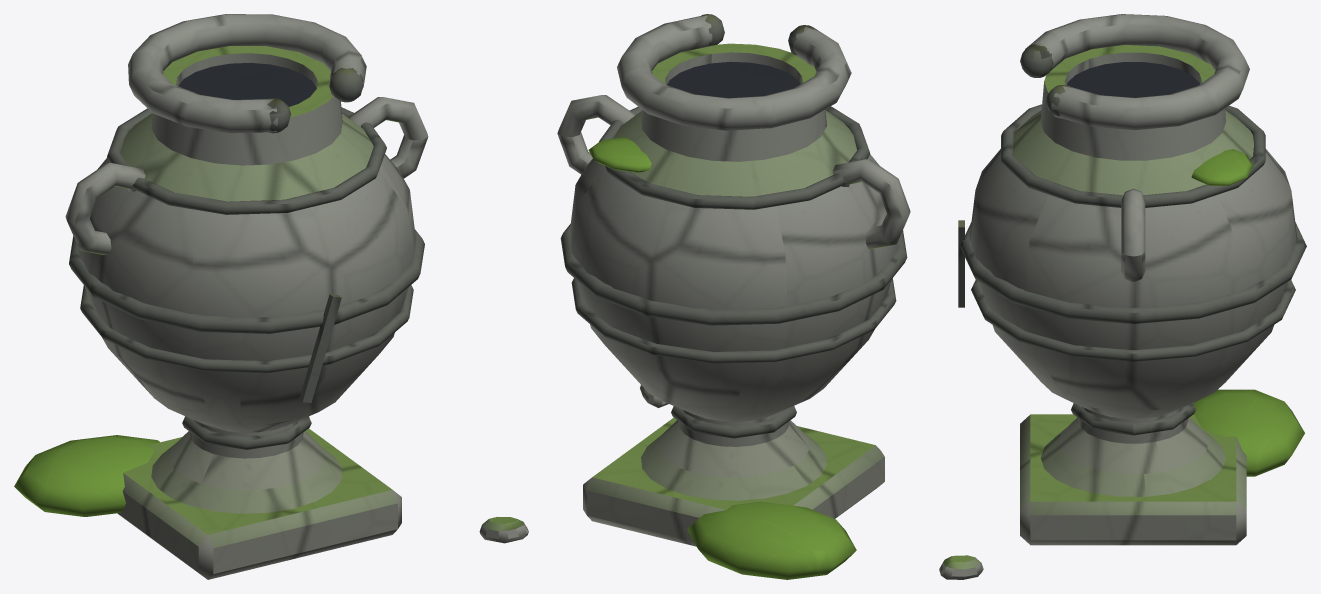
File: stone_urn.glb
The picture shows the model from 3 angles, left to right: view 1: azimuth 30°, elevation 25°; view 2: azimuth 150°, elevation 25°; view 3: azimuth 270°, elevation 25°; orthographic projection. The views are drawn at different scales.
Visible parts, largest first — view 1: stone_urn; view 2: stone_urn; view 3: stone_urn.
Boxes of the visible parts, left/top/right/bottom form: stone_urn: left=14, top=14, right=528, bottom=579; stone_urn: left=557, top=14, right=910, bottom=579; stone_urn: left=939, top=14, right=1306, bottom=579.
Size of the model in its own units: 1.19 by 1.43 by 1.07.
4 materials, 4 textured.
